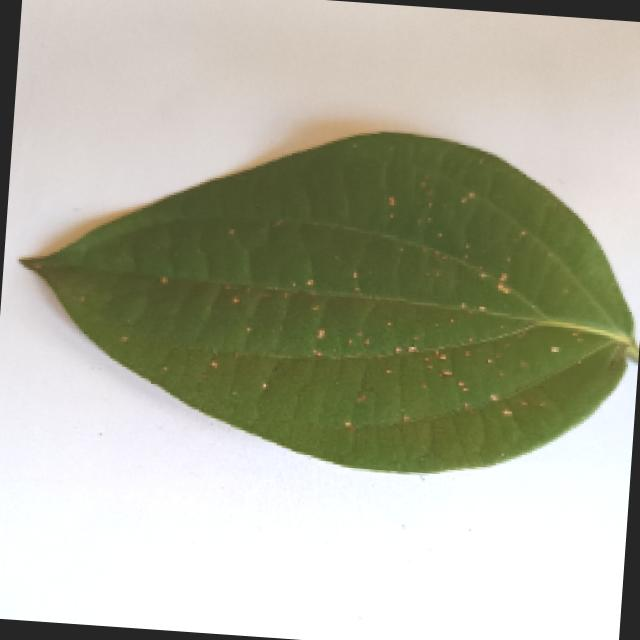pollu-disease: (15, 94, 640, 489)
